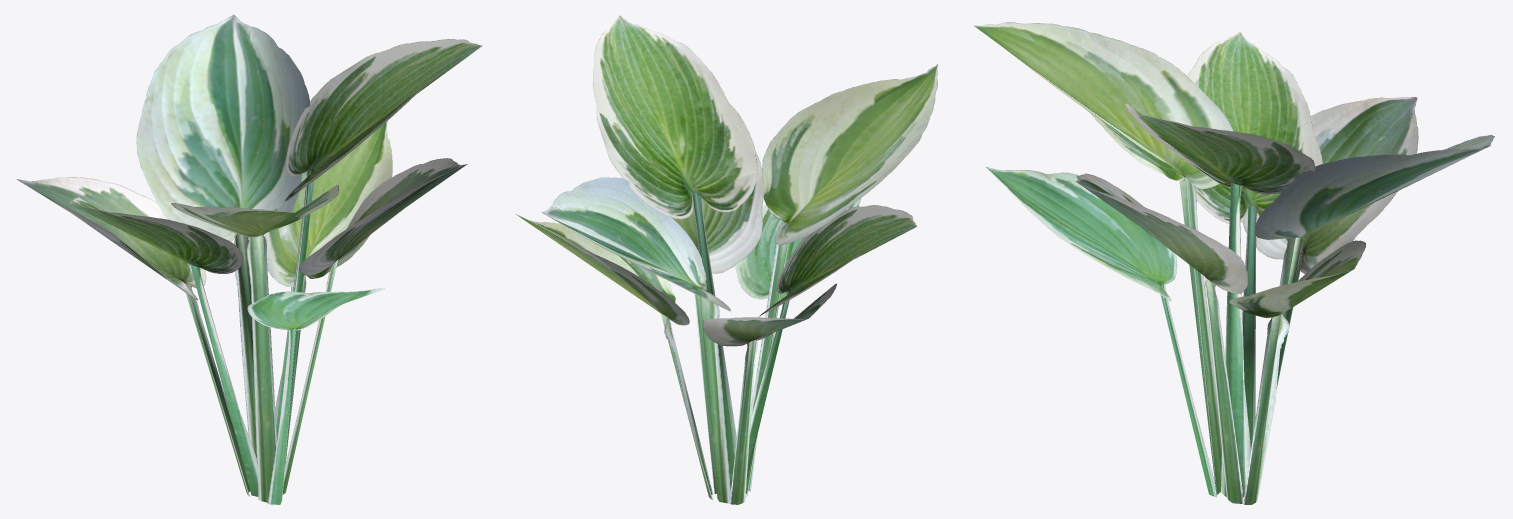
Rendered from plant_small_wg_00F2_wild.fbx.
3 renders of one model, left to right at view 1: azimuth 30°, elevation 25°; view 2: azimuth 150°, elevation 25°; view 3: azimuth 270°, elevation 25°, orthographic. The views are drawn at different scales.
Visible parts, largest first — view 1: plant_small_wg_00F2_wild; view 2: plant_small_wg_00F2_wild; view 3: plant_small_wg_00F2_wild.
Boxes of the visible parts, left/top/right/bottom form: plant_small_wg_00F2_wild: left=17, top=14, right=482, bottom=504; plant_small_wg_00F2_wild: left=515, top=15, right=937, bottom=504; plant_small_wg_00F2_wild: left=973, top=22, right=1494, bottom=504.
Size of the model in its own units: 41.8 by 46.35 by 47.37.
